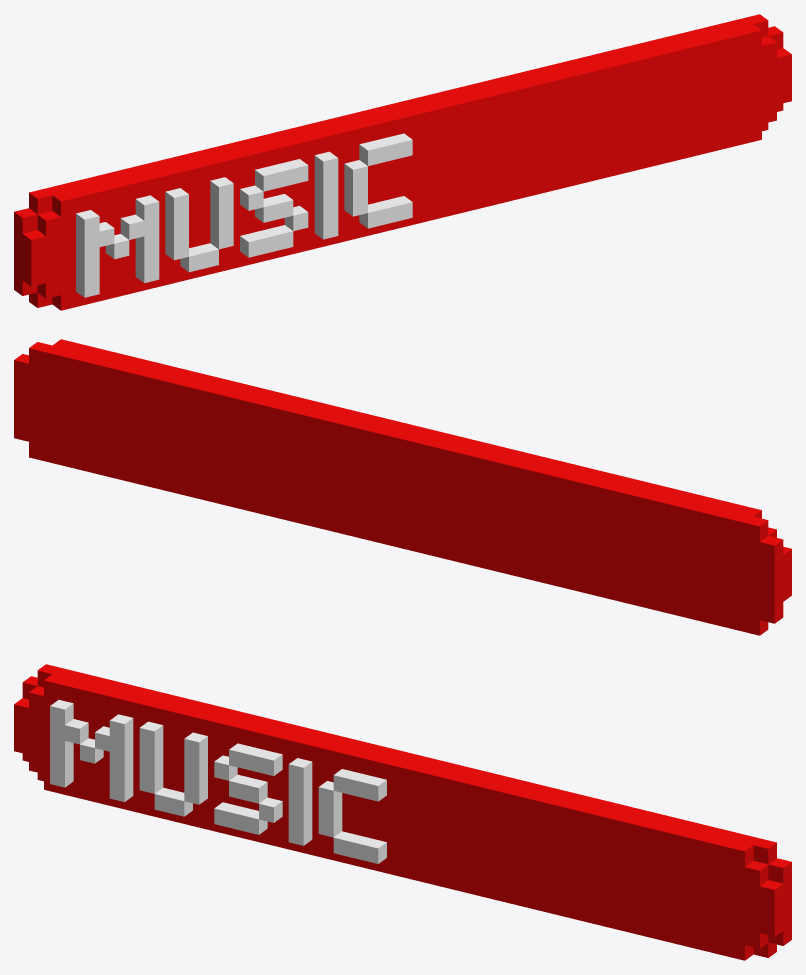
Rendered from music.obj.
3 views of the same model, one above another, from view 1: azimuth 30°, elevation 25°; view 2: azimuth 150°, elevation 25°; view 3: azimuth 330°, elevation 25° (orthographic).
Parts seen in each view (by area): view 1: music; view 2: music; view 3: music.
Boxes of the visible parts, bbox=[...] form: music: bbox=[14, 14, 791, 310]; music: bbox=[14, 339, 791, 635]; music: bbox=[14, 664, 791, 960].
Bounding box in the file's own units: 51 × 7 × 3.
1 material, 1 textured.
